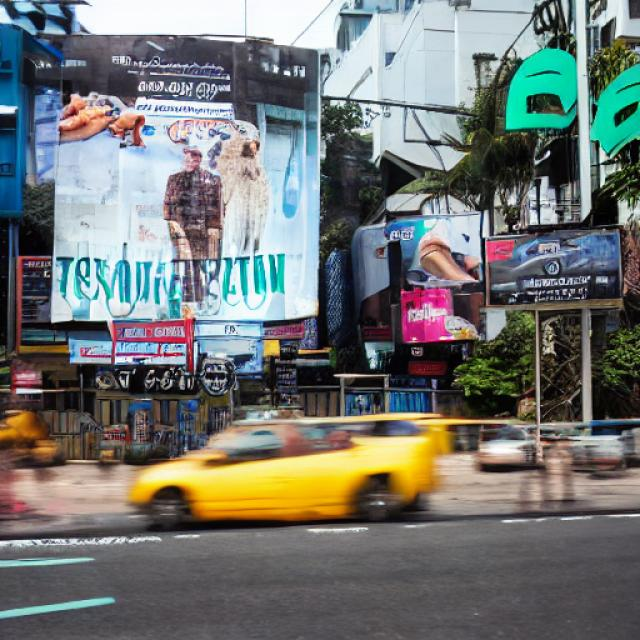Billboard: (47, 34, 324, 327), (482, 229, 622, 309), (385, 204, 488, 295), (401, 290, 482, 348)
